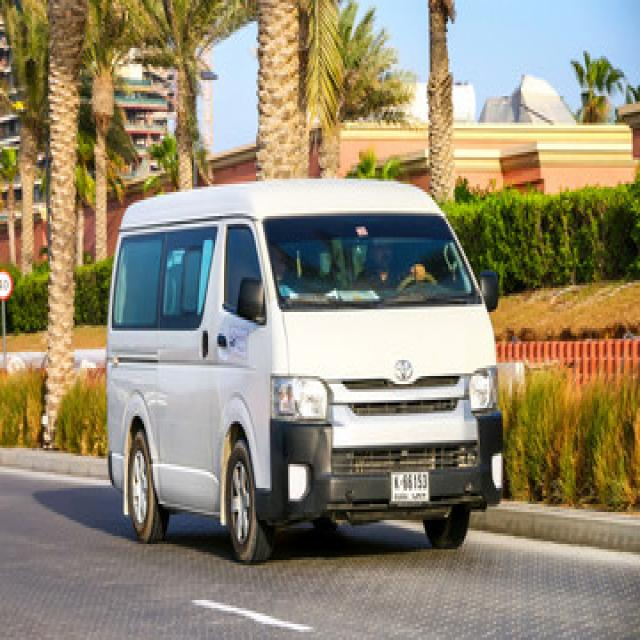van: (48, 179, 501, 560)
